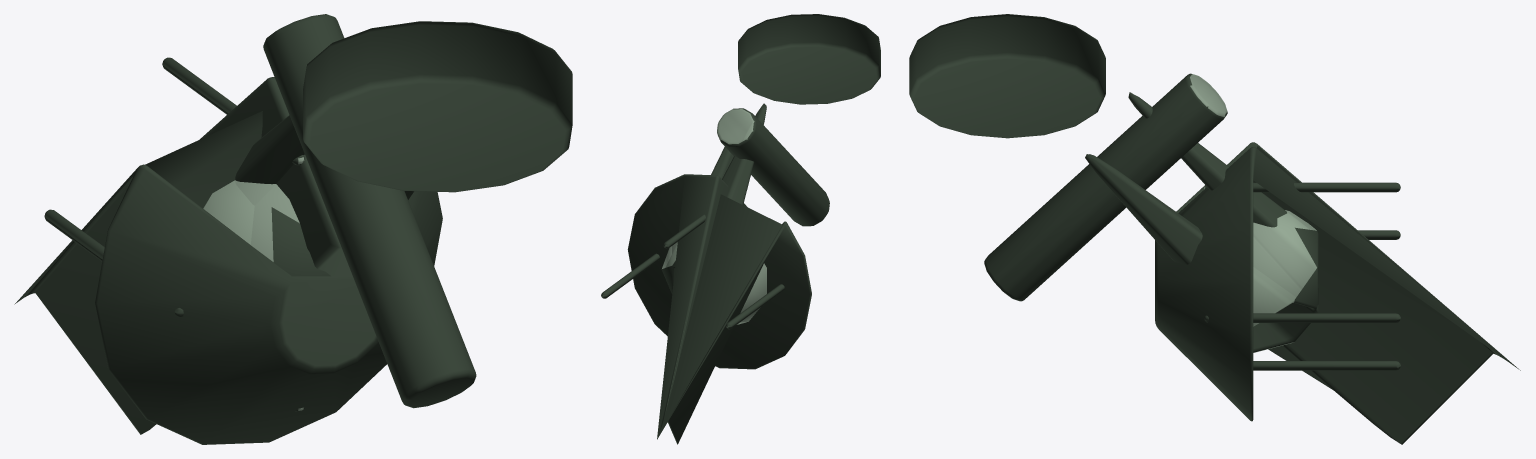
The model's file is BB_PROP_WallLamp.obj.
The picture shows the model from 3 angles, left to right: view 1: azimuth 30°, elevation 25°; view 2: azimuth 150°, elevation 25°; view 3: azimuth 270°, elevation 25°; orthographic projection. The views are drawn at different scales.
Visible parts, largest first — view 1: BB_PROP_WallLamp; view 2: BB_PROP_WallLamp; view 3: BB_PROP_WallLamp.
Part boxes in pixels (x1,y1,x2,y2): BB_PROP_WallLamp: (14,14,572,444); BB_PROP_WallLamp: (601,14,880,444); BB_PROP_WallLamp: (909,14,1520,444).
Bounding box in the file's own units: 0.2951 × 0.4485 × 0.6229.
